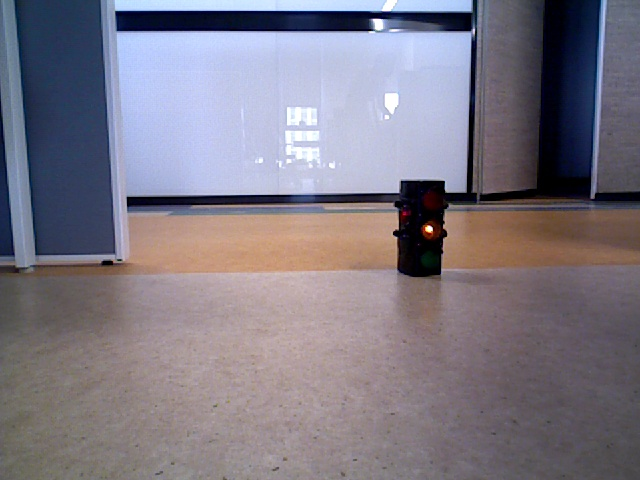yellow: (400, 181, 438, 275)
